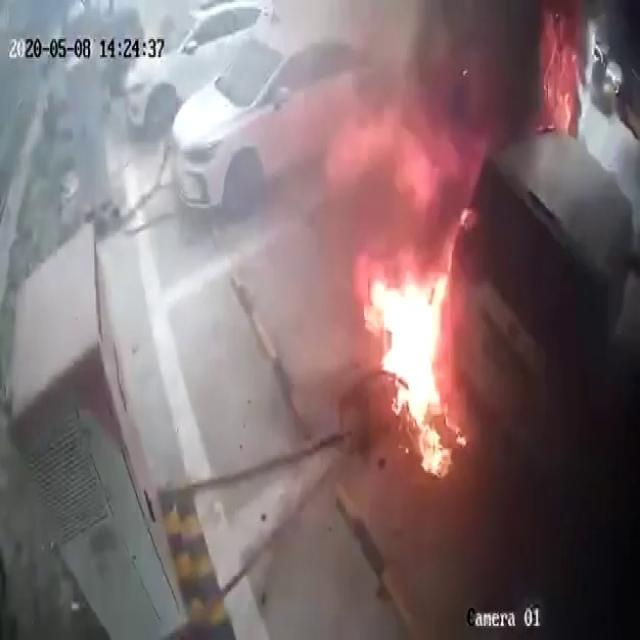Fire: (357, 240, 465, 464)
